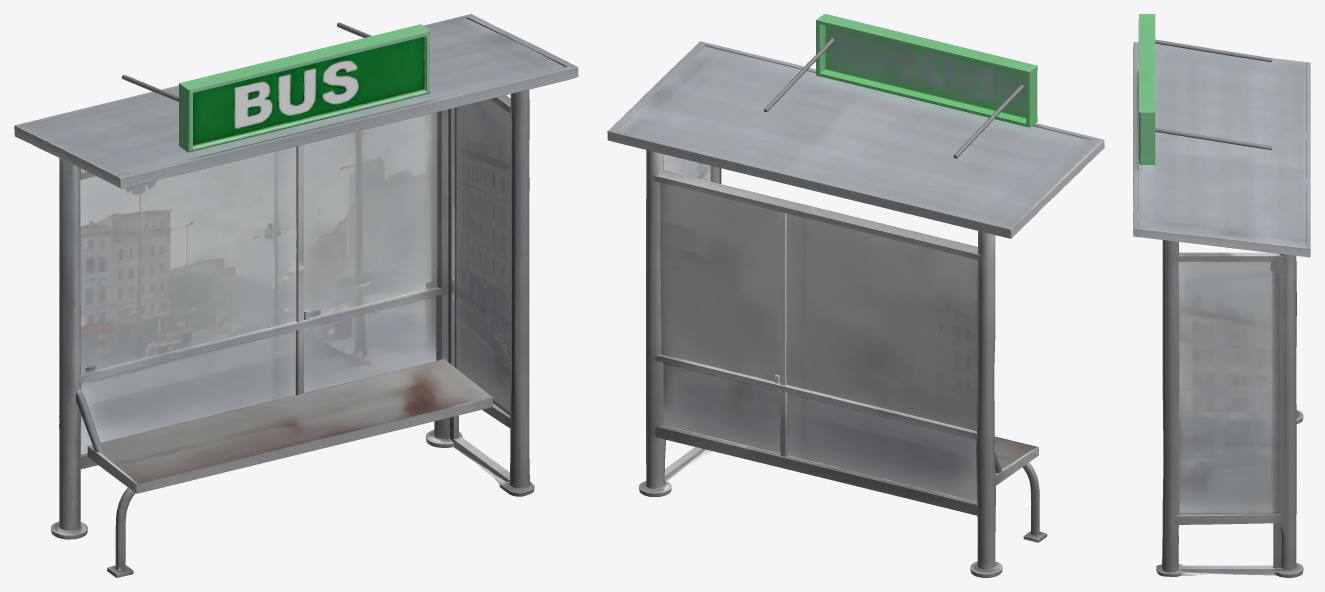
File: decor-abribus.glb
The picture shows the model from 3 angles, left to right: view 1: azimuth 30°, elevation 25°; view 2: azimuth 150°, elevation 25°; view 3: azimuth 270°, elevation 25°; orthographic projection. The views are drawn at different scales.
Visible parts, largest first — view 1: model; view 2: model; view 3: model.
Part boxes in pixels (left/top/right/bottom): model: left=14, top=14, right=578, bottom=577; model: left=607, top=14, right=1104, bottom=577; model: left=1133, top=14, right=1310, bottom=577.
Bounding box in the file's own units: 1.82 × 1.9 × 0.733.
Materials: 1 (1 with a texture image).
